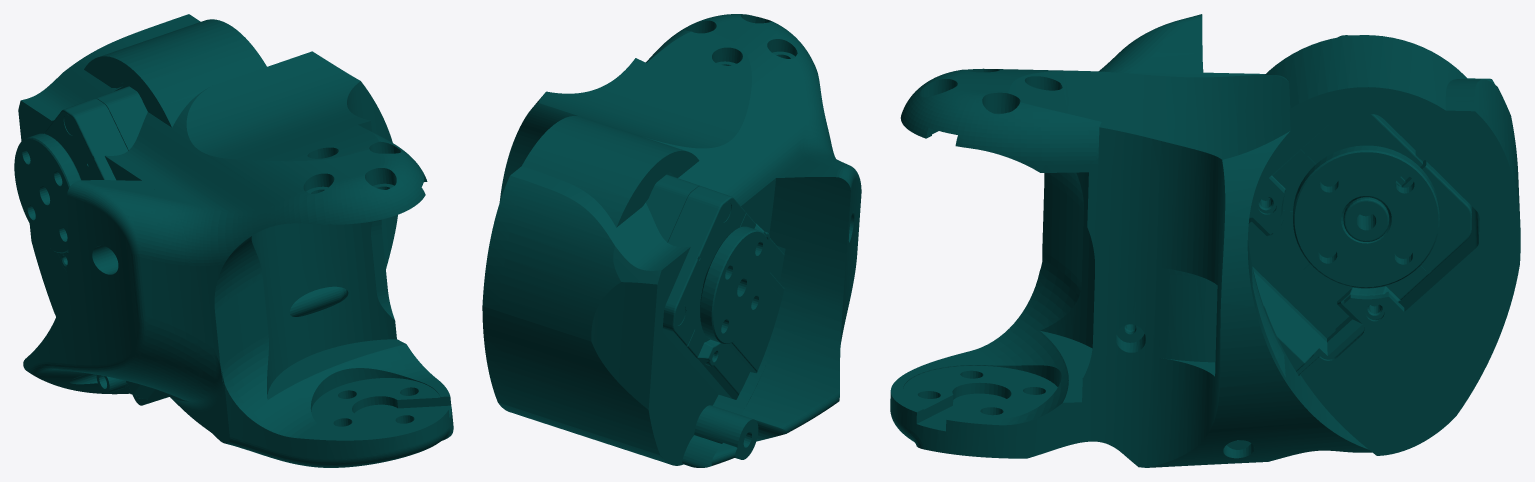
The model's file is leg_left_ankle_pitch_visuals.obj.
3 renders of one model, left to right at view 1: azimuth 30°, elevation 25°; view 2: azimuth 150°, elevation 25°; view 3: azimuth 270°, elevation 25°, orthographic. The views are drawn at different scales.
Bounding box in the file's own units: 0.0652 × 0.0538 × 0.0824.
